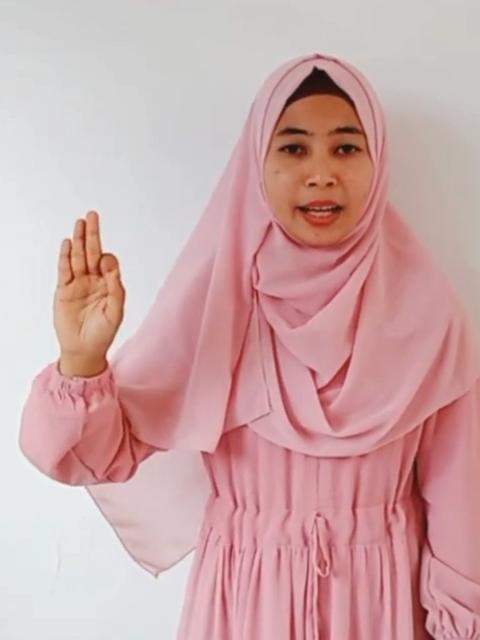F: (52, 207, 130, 353)
